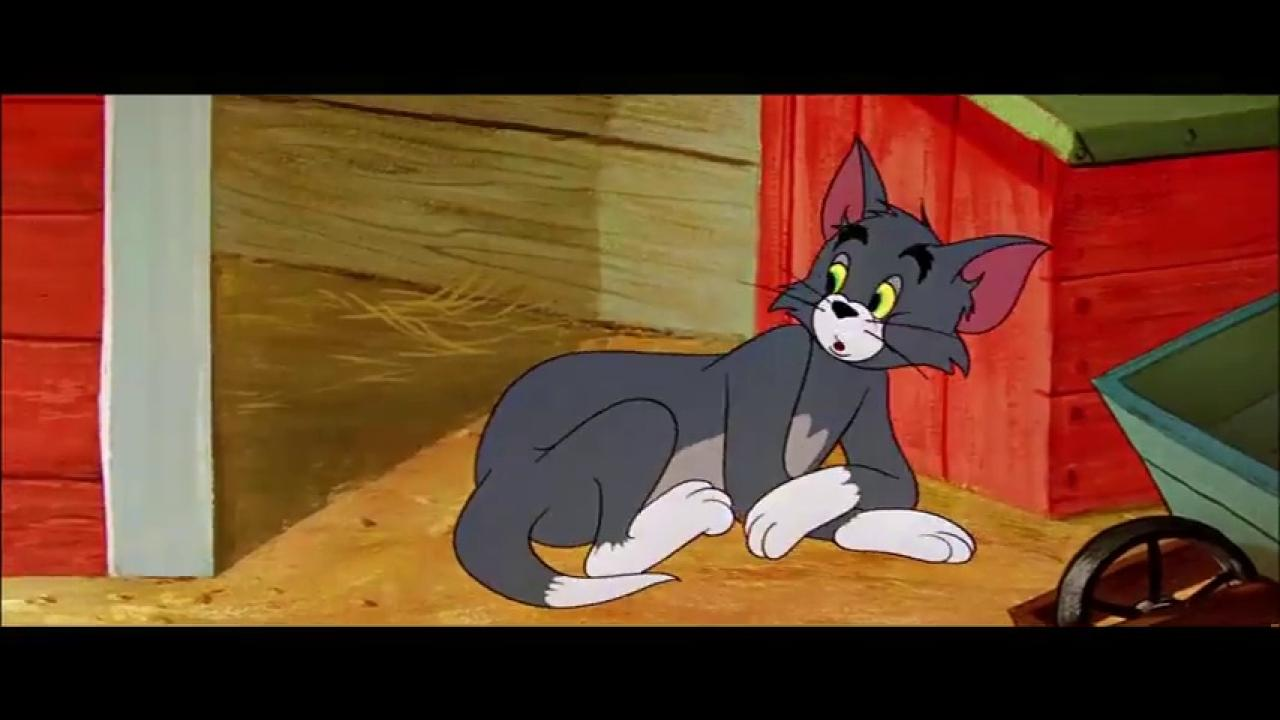Tom: (452, 134, 1057, 609)
